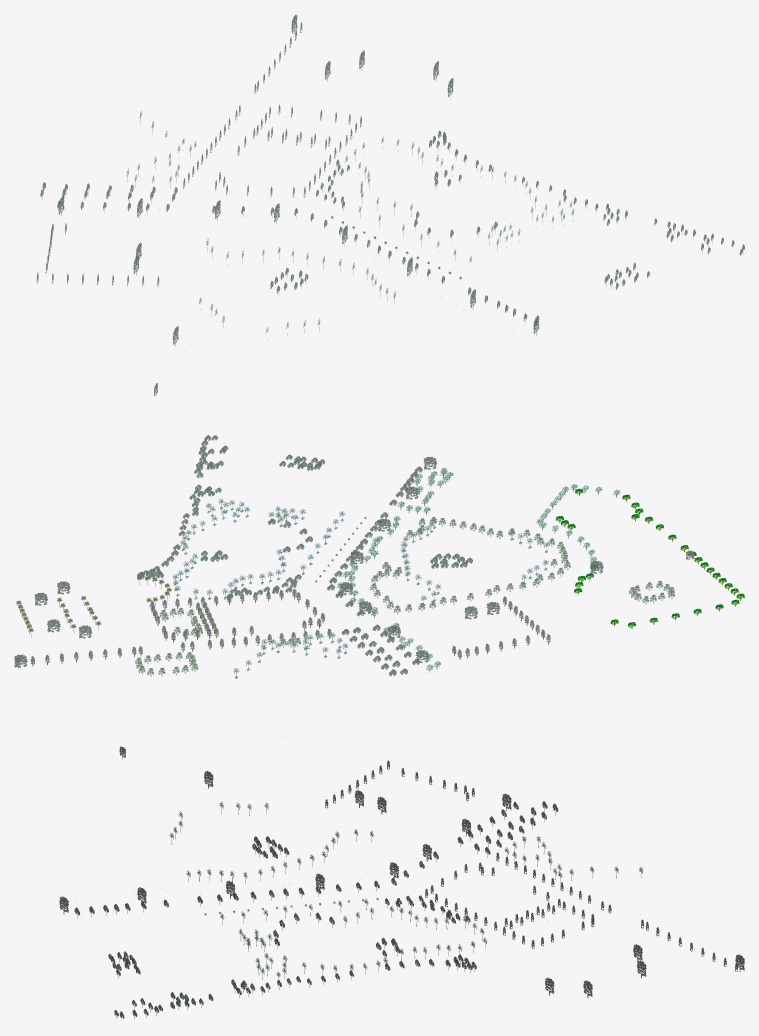
3 views of the same model, one above another, from view 1: azimuth 30°, elevation 25°; view 2: azimuth 150°, elevation 25°; view 3: azimuth 270°, elevation 25° (orthographic). The views are drawn at different scales.
Parts seen in each view (by area): view 1: Mesh283 Component_173_1 Group1 Model_1 Mesh283 Component_173, Mesh283 Component_173_1 Group1 Model_2 Mesh283 Component_173, Mesh3 Palm_08_1 Group1 Model Mesh3 Palm_08_1 Group1 Model_2 , Mesh283 Component_173_1 Group1 Model Mesh283 Component_173_1; view 2: Mesh283 Component_173_1 Group1 Model_1 Mesh283 Component_173, Mesh283 Component_173_1 Group1 Model_2 Mesh283 Component_173, Mesh520 Component_178_1 Group1 Model_1 Mesh520 Component_178, Mesh3 Palm_08_1 Group1 Model Mesh3 Palm_08_1 Group1 Model_2 , Mesh584 Component_224_1 Group1 Model Mesh585 Component_224_1, Mesh385 Component_176_1 Group1 Model_1 Mesh385 Component_176, Mesh1 Component_222_1 Palm_08_1 Group1 Model Mesh2 Component, Mesh520 Component_178_1 Group1 Model Mesh520 Component_178_1, Mesh418 Component_177_1 Group1 Model Mesh418 Component_177_1, Mesh317 Component_175_1 Group1 Model_1 Mesh317 Component_175, Mesh3 Palm_08_1 Group1 Model_1 Mesh6 Palm_08_2 Group1 Model_; view 3: Mesh283 Component_173_1 Group1 Model_1 Mesh283 Component_173, Mesh283 Component_173_1 Group1 Model_2 Mesh283 Component_173, Mesh3 Palm_08_1 Group1 Model Mesh3 Palm_08_1 Group1 Model_2 , Mesh283 Component_173_1 Group1 Model Mesh283 Component_173_1, Mesh3 Palm_08_1 Group1 Model_1 Mesh6 Palm_08_2 Group1 Model_.
Boxes of the visible parts, <box> form: Mesh283 Component_173_1 Group1 Model_1 Mesh283 Component_173: <box>36,14,744,395</box>; Mesh283 Component_173_1 Group1 Model_2 Mesh283 Component_173: <box>40,131,744,324</box>; Mesh3 Palm_08_1 Group1 Model Mesh3 Palm_08_1 Group1 Model_2 : <box>126,111,574,333</box>; Mesh283 Component_173_1 Group1 Model Mesh283 Component_173_1: <box>41,25,743,396</box>; Mesh283 Component_173_1 Group1 Model_1 Mesh283 Component_173: <box>14,435,695,674</box>; Mesh283 Component_173_1 Group1 Model_2 Mesh283 Component_173: <box>137,436,472,676</box>; Mesh520 Component_178_1 Group1 Model_1 Mesh520 Component_178: <box>135,517,674,674</box>; Mesh3 Palm_08_1 Group1 Model Mesh3 Palm_08_1 Group1 Model_2 : <box>172,498,549,673</box>; Mesh584 Component_224_1 Group1 Model Mesh585 Component_224_1: <box>336,467,619,669</box>; Mesh385 Component_176_1 Group1 Model_1 Mesh385 Component_176: <box>555,489,744,627</box>; Mesh1 Component_222_1 Palm_08_1 Group1 Model Mesh2 Component: <box>174,507,547,678</box>; Mesh520 Component_178_1 Group1 Model Mesh520 Component_178_1: <box>136,521,672,676</box>; Mesh418 Component_177_1 Group1 Model Mesh418 Component_177_1: <box>16,575,171,632</box>; Mesh317 Component_175_1 Group1 Model_1 Mesh317 Component_175: <box>18,494,740,667</box>; Mesh3 Palm_08_1 Group1 Model_1 Mesh6 Palm_08_2 Group1 Model_: <box>175,503,546,676</box>; Mesh283 Component_173_1 Group1 Model_1 Mesh283 Component_173: <box>59,746,744,1016</box>; Mesh283 Component_173_1 Group1 Model_2 Mesh283 Component_173: <box>75,802,558,1018</box>; Mesh3 Palm_08_1 Group1 Model Mesh3 Palm_08_1 Group1 Model_2 : <box>169,802,643,977</box>; Mesh283 Component_173_1 Group1 Model Mesh283 Component_173_1: <box>61,752,742,1019</box>; Mesh3 Palm_08_1 Group1 Model_1 Mesh6 Palm_08_2 Group1 Model_: <box>171,807,641,979</box>.
Bounding box in the file's own units: 583161 × 17080 × 585459.
